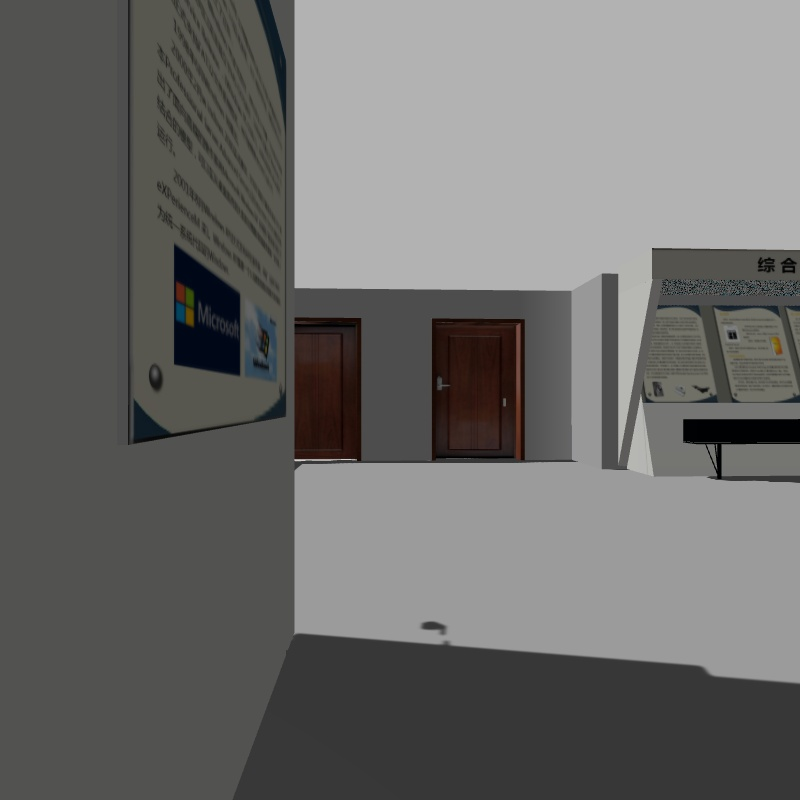handle: (428, 367, 453, 393)
